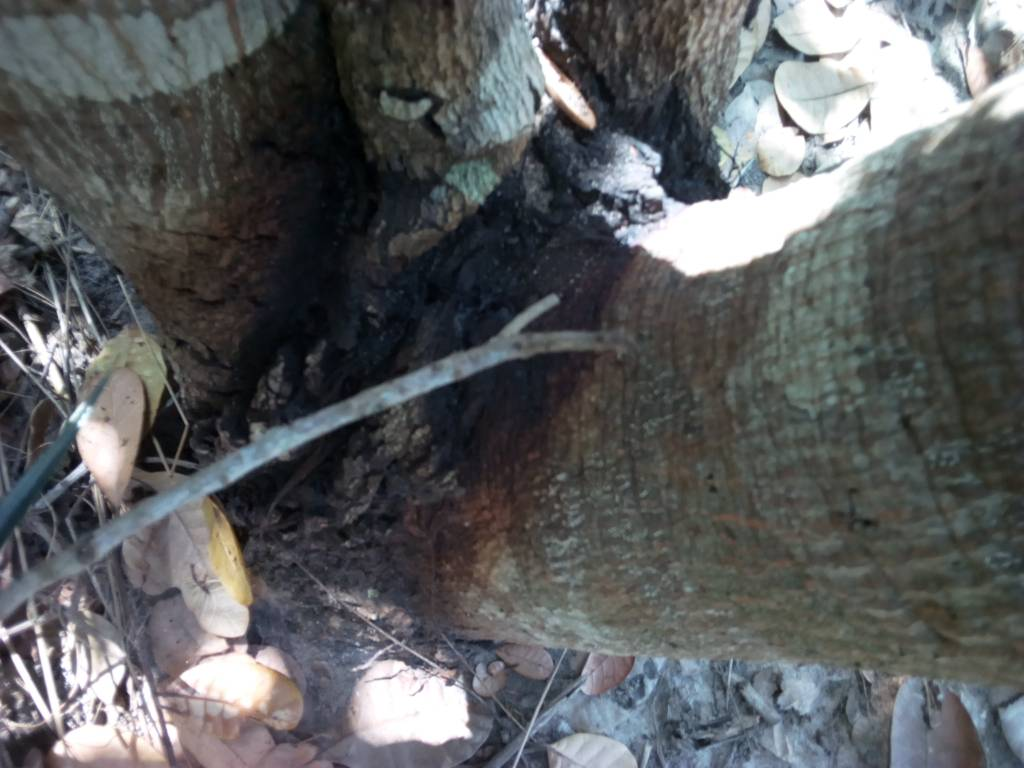Gommose: (240, 223, 525, 569)
